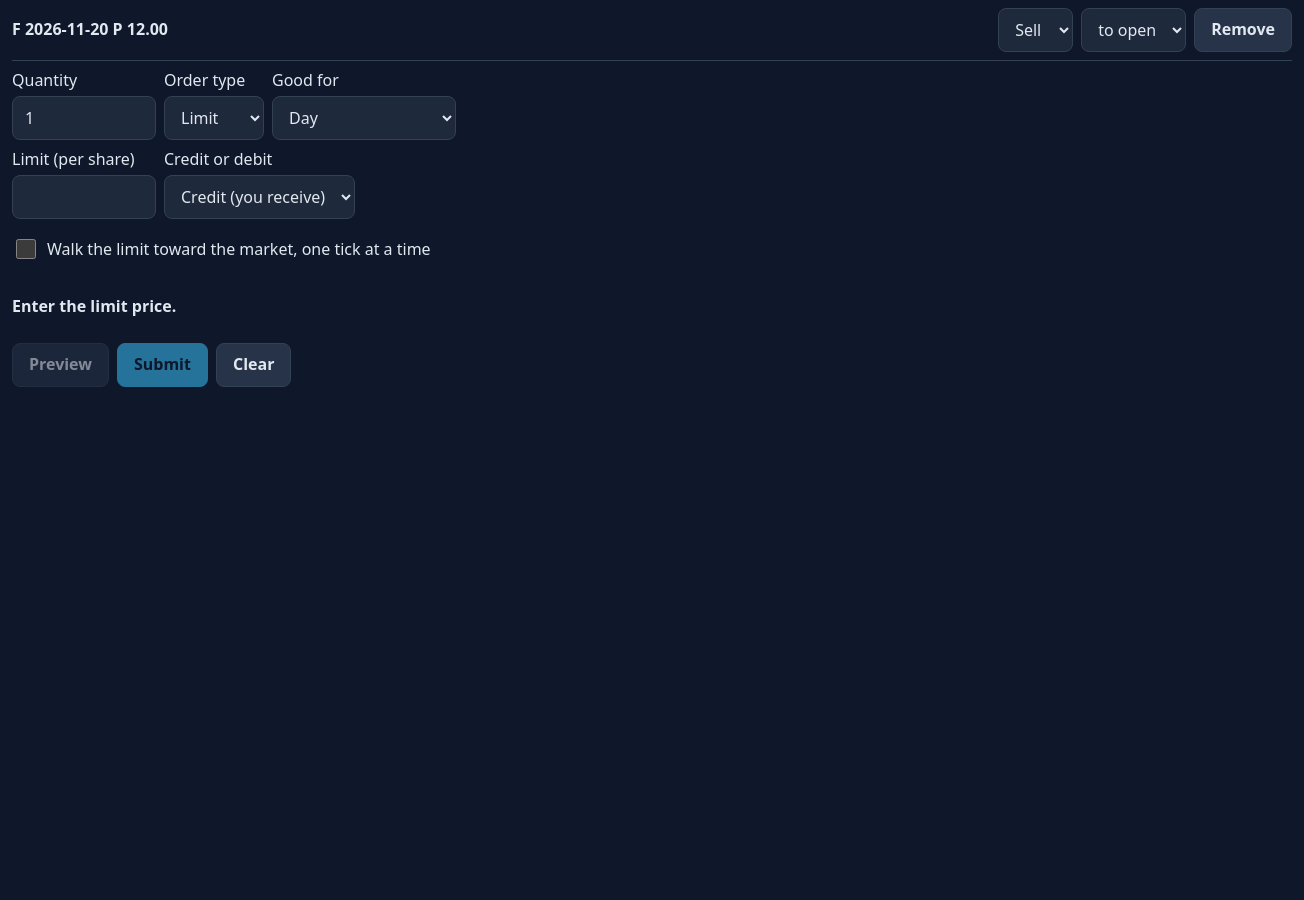
Ticket › a preview rejected for insufficient_cash disables Submit and says why in plain words
Type "0.45" into the field labelled "Limit (per share)" at x=84, y=197, box [12,175,156,219]
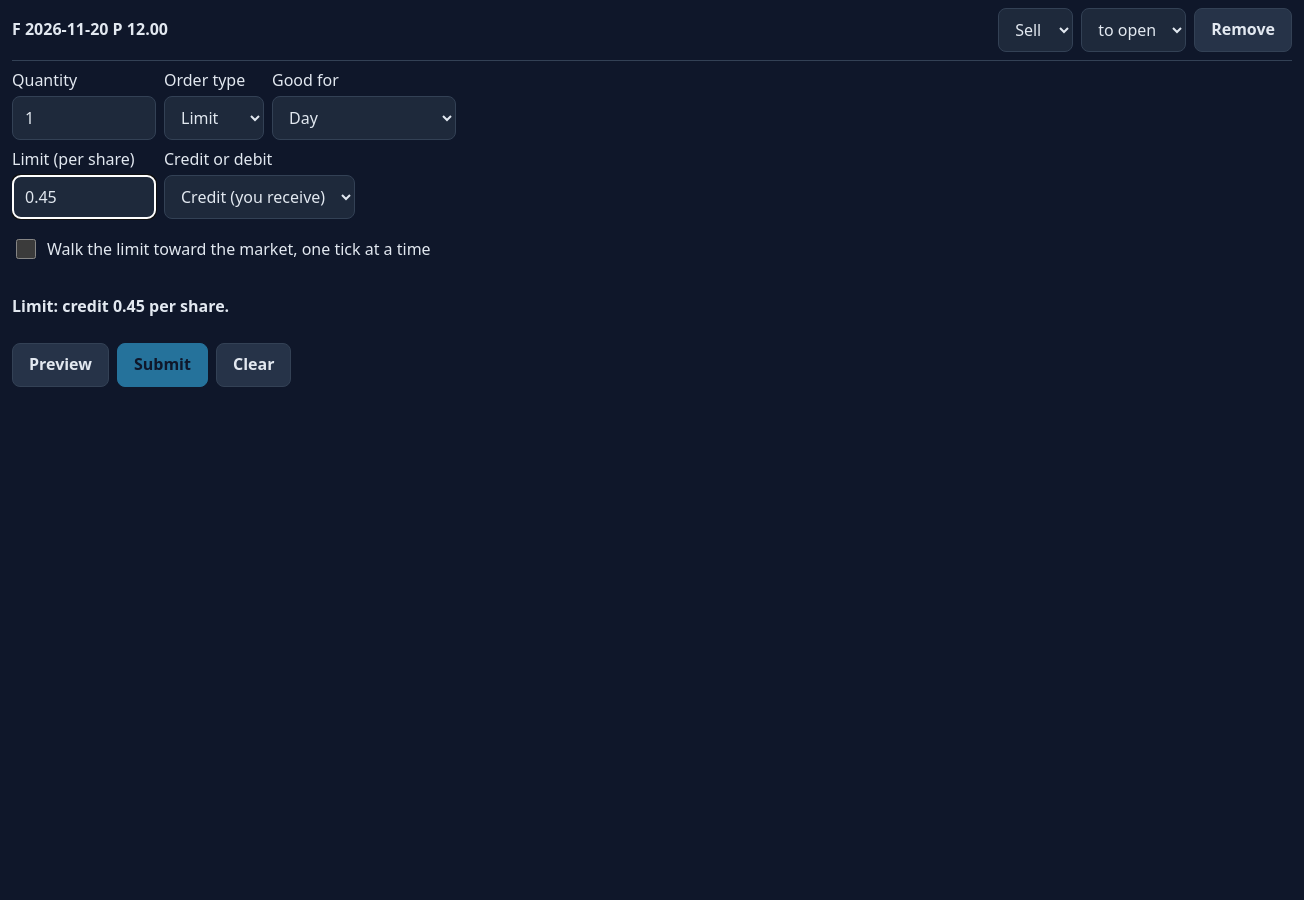
Click the button "Preview" at x=60, y=365, box [12,343,109,387]
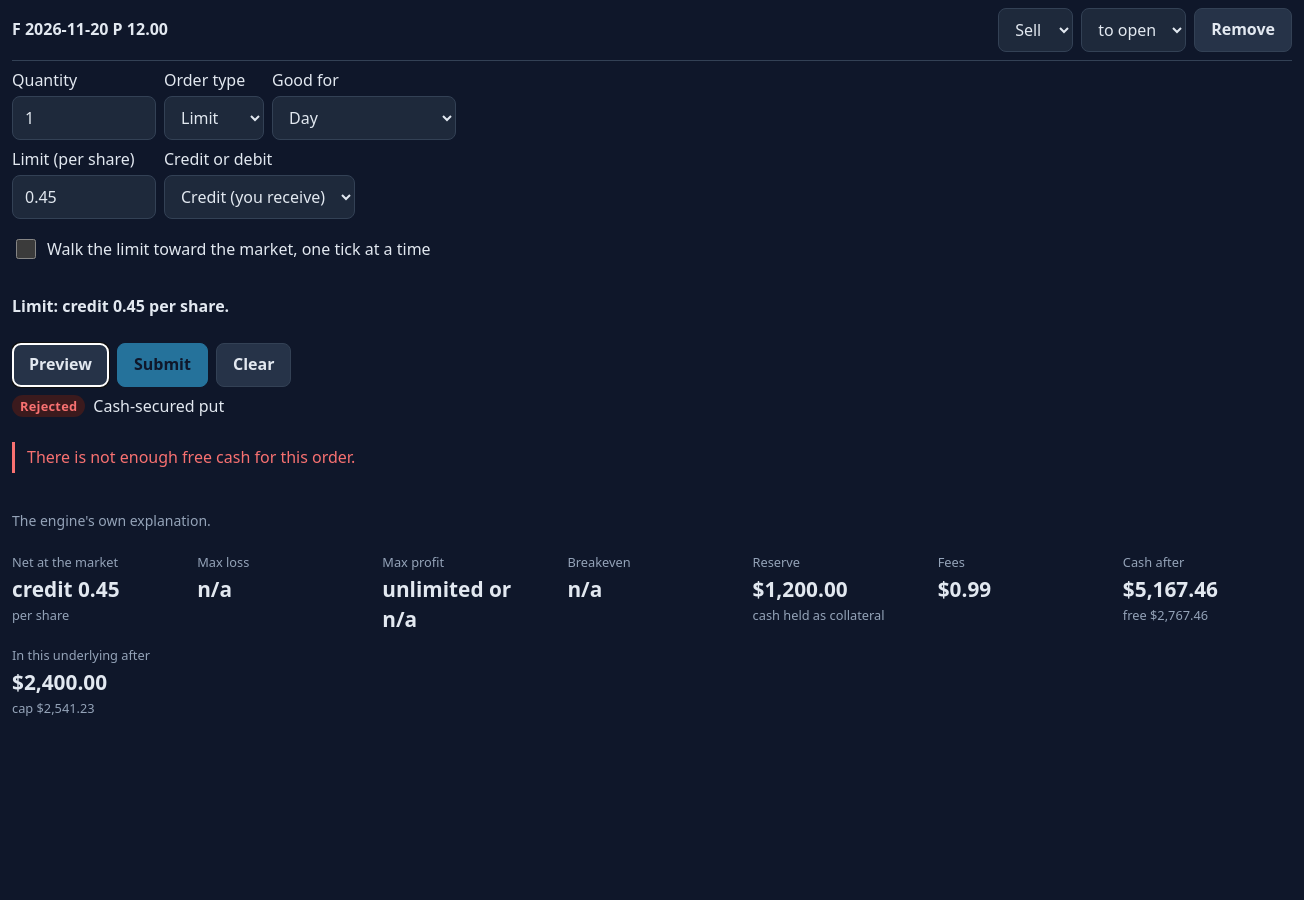
Result: the text "Rejected" is shown at [12,395,85,417]
Result: the message reads "There is not enough free cash for this order." at [27,446,355,468]
Result: the text "The engine's own explanation." is shown at [12,511,211,530]
